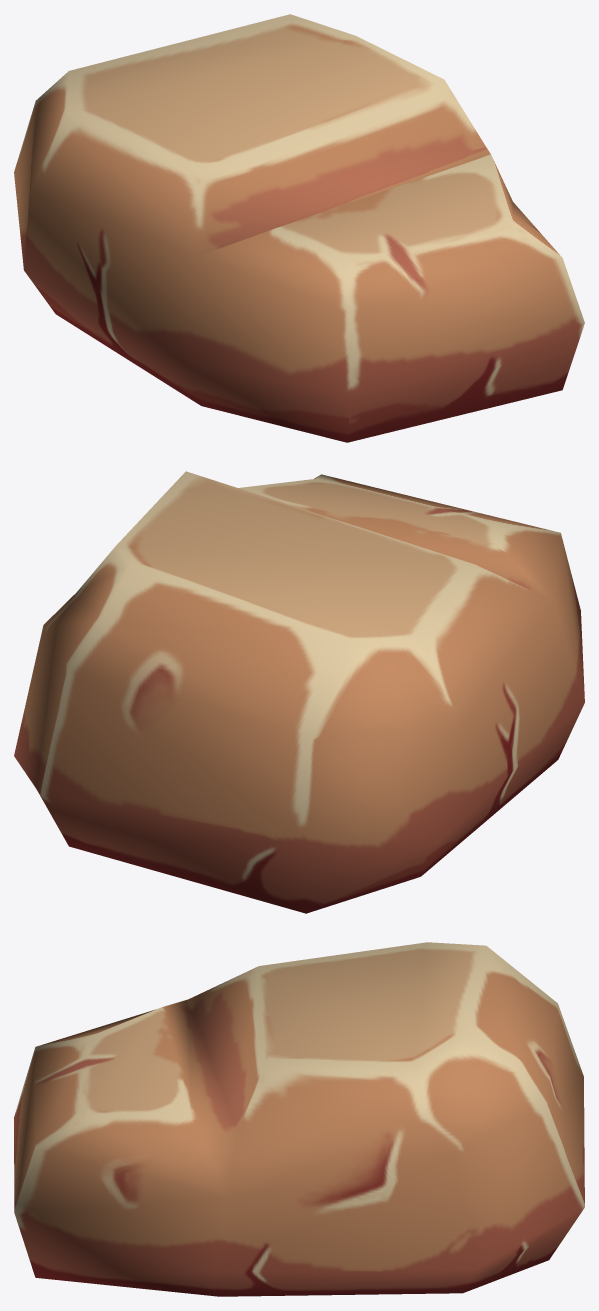
File: stone_01.fbx
3 views of the same model, one above another, from view 1: azimuth 30°, elevation 25°; view 2: azimuth 150°, elevation 25°; view 3: azimuth 270°, elevation 25° (orthographic). The views are drawn at different scales.
Visible parts, largest first — view 1: pCube1.002; view 2: pCube1.002; view 3: pCube1.002.
Part boxes in pixels (left/top/right/bottom): pCube1.002: left=14, top=14, right=584, bottom=442; pCube1.002: left=14, top=471, right=584, bottom=913; pCube1.002: left=14, top=942, right=584, bottom=1296.
Bounding box in the file's own units: 149 × 85.93 × 199.
